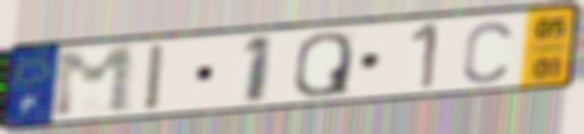1: (240, 32, 274, 106), (408, 20, 441, 92)
C: (459, 19, 515, 86)
I: (143, 41, 169, 114)
M: (51, 43, 137, 121)
Q: (290, 29, 354, 100)
